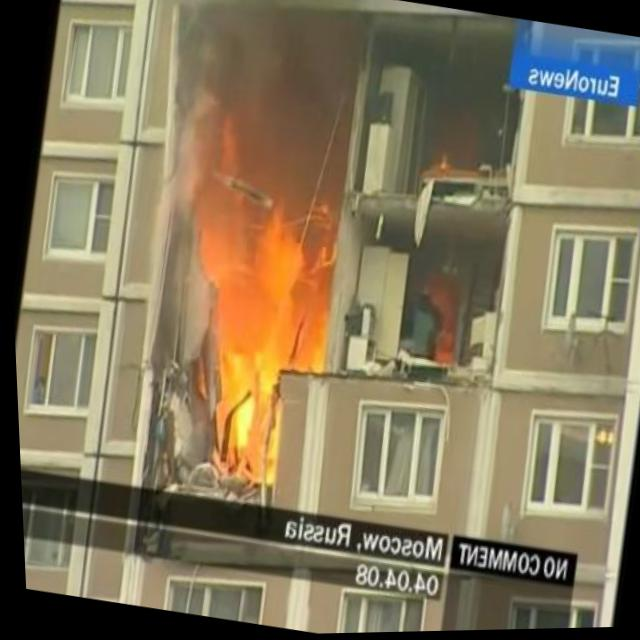fire: (179, 187, 352, 484)
